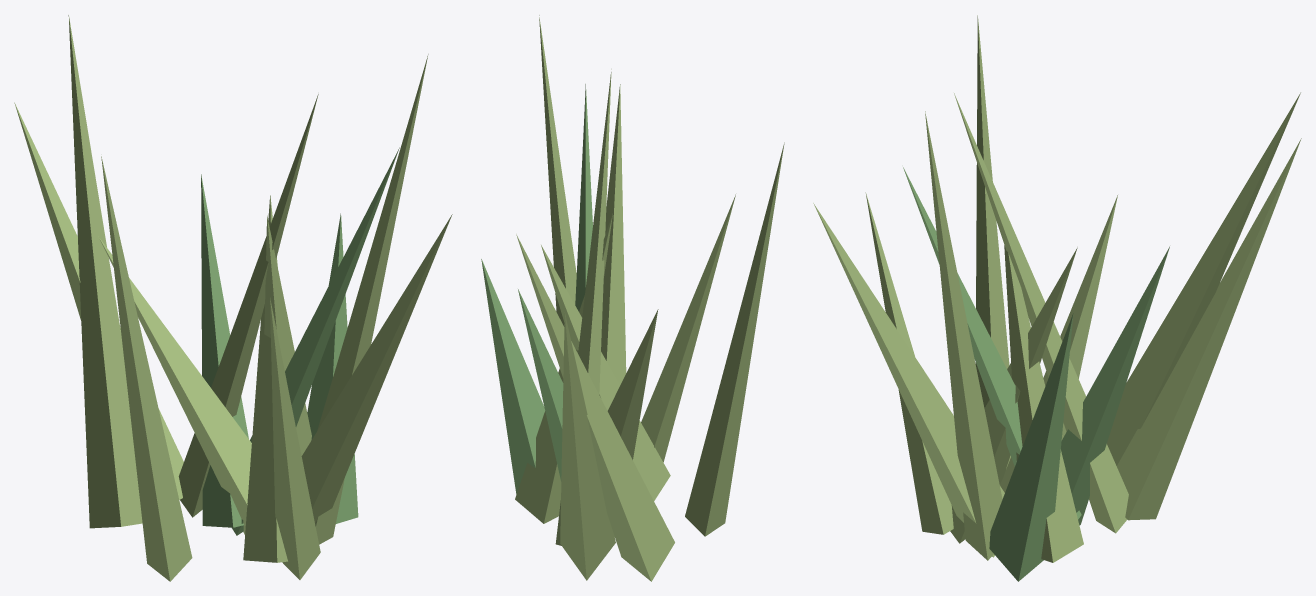
Rendered from grass_s3_03.glb.
3 views of the same model, side by side, from view 1: azimuth 30°, elevation 25°; view 2: azimuth 150°, elevation 25°; view 3: azimuth 270°, elevation 25° (orthographic). The views are drawn at different scales.
Parts seen in each view (by area): view 1: part01, part00; view 2: part01, part00; view 3: part01, part00.
Part boxes in pixels (x1,y1,x2,y2): part01: [14, 15, 452, 581]; part00: [201, 147, 399, 535]; part01: [515, 15, 784, 581]; part00: [481, 84, 592, 494]; part01: [813, 15, 1301, 562]; part00: [903, 167, 1169, 581].
Bounding box in the file's own units: 0.6098 × 0.9752 × 0.8797.
